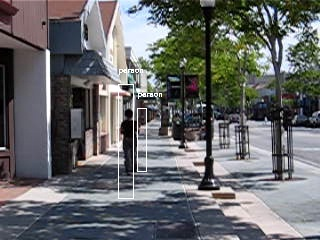person: (120, 110, 144, 176), (119, 110, 143, 176), (121, 110, 145, 176), (120, 109, 144, 175), (120, 111, 144, 177)
target_negative: (52, 58, 180, 186), (15, 20, 87, 237), (238, 139, 311, 217), (178, 136, 264, 188), (73, 21, 76, 208)
